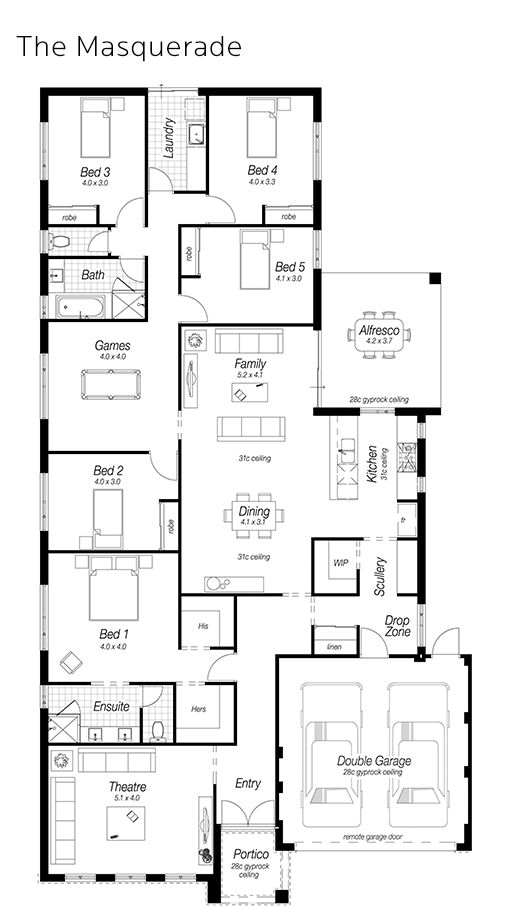room: (39, 743, 220, 882), (38, 550, 181, 686), (205, 88, 320, 228), (39, 87, 146, 227), (39, 450, 183, 554), (178, 224, 320, 329), (39, 682, 176, 746)
